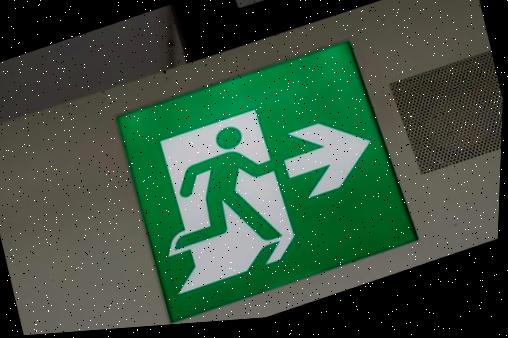emergency_exit: (114, 39, 420, 323)
